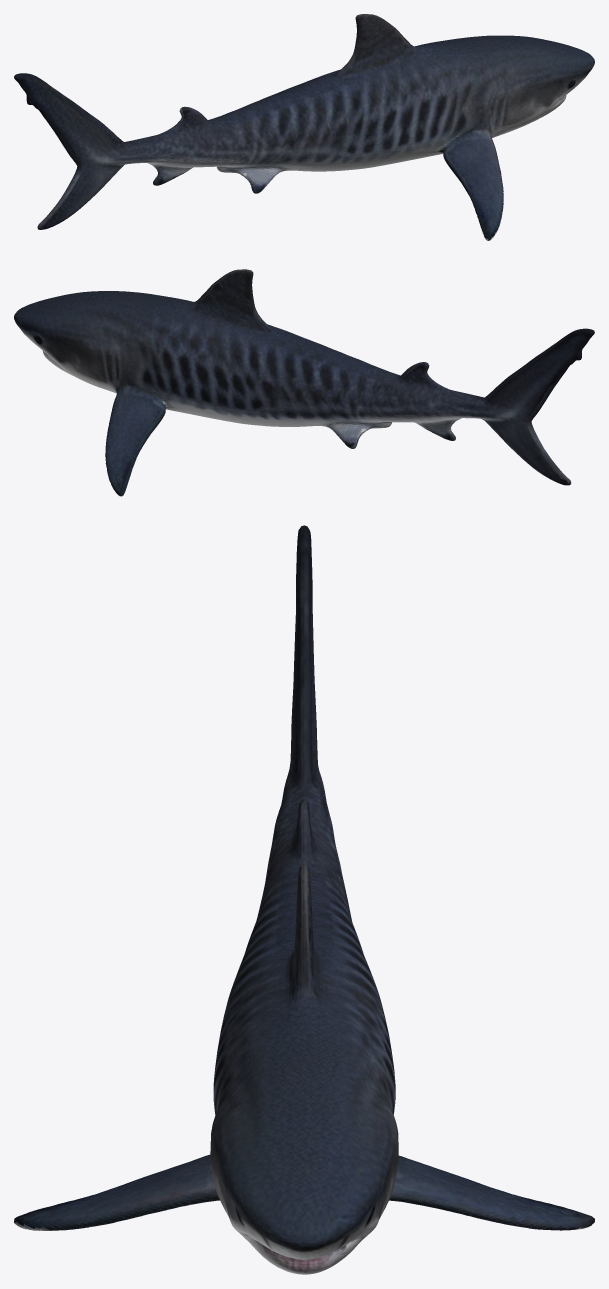
The model's file is galeocerdo-cuvier.glb.
3 views of the same model, one above another, from view 1: azimuth 30°, elevation 25°; view 2: azimuth 150°, elevation 25°; view 3: azimuth 270°, elevation 25° (orthographic). The views are drawn at different scales.
Parts seen in each view (by area): view 1: geometry_0; view 2: geometry_0; view 3: geometry_0.
Boxes of the visible parts, x1=… form: geometry_0: x1=14, y1=14, x2=594, y2=240; geometry_0: x1=14, y1=269, x2=594, y2=496; geometry_0: x1=14, y1=525, x2=594, y2=1274.
Bounding box in the file's own units: 1.99 × 0.6684 × 0.9764.
1 material, 1 textured.
